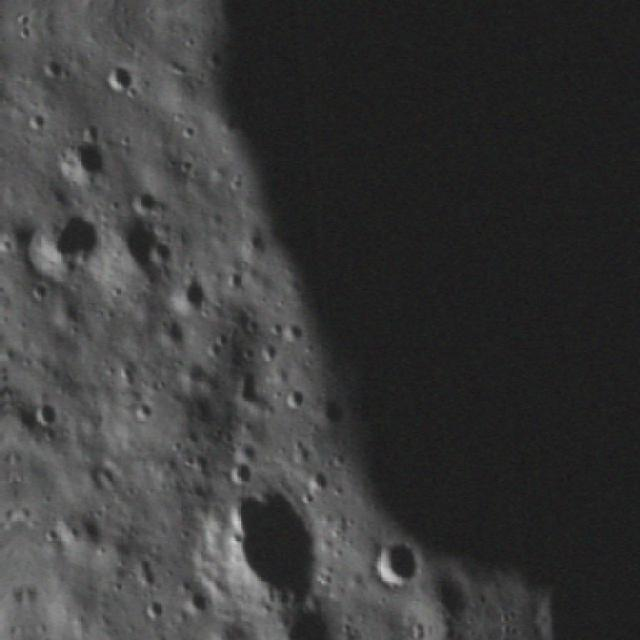crater: (202, 484, 338, 636), (21, 202, 110, 282), (106, 208, 182, 289), (368, 536, 428, 598), (56, 500, 115, 557), (57, 141, 111, 190), (165, 276, 213, 318), (230, 364, 267, 414), (268, 312, 314, 351), (97, 60, 138, 102), (153, 314, 189, 351), (127, 184, 164, 218), (76, 111, 110, 147), (179, 585, 213, 621), (34, 52, 68, 86), (143, 238, 177, 272), (274, 382, 308, 415), (27, 397, 62, 429), (124, 399, 159, 428), (22, 107, 50, 136), (34, 421, 64, 447), (223, 266, 249, 296), (138, 594, 167, 620), (25, 278, 53, 304), (173, 120, 198, 146), (256, 337, 275, 365), (0, 231, 18, 259)
